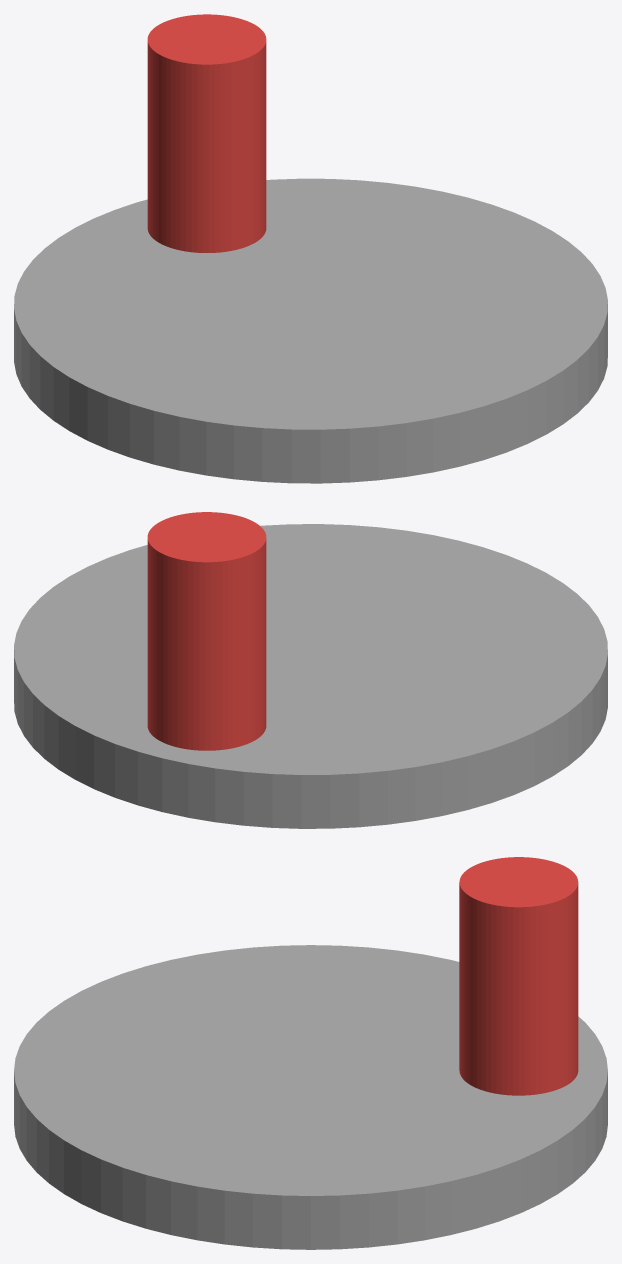
The model's file is Spindle.glb.
3 views of the same model, one above another, from view 1: azimuth 30°, elevation 25°; view 2: azimuth 150°, elevation 25°; view 3: azimuth 270°, elevation 25° (orthographic).
Parts seen in each view (by area): view 1: Cylinder, Cylinder.001; view 2: Cylinder, Cylinder.001; view 3: Cylinder, Cylinder.001.
Part boxes in pixels (x1=…): Cylinder: x1=14, y1=178, x2=607, y2=483; Cylinder.001: x1=147, y1=14, x2=266, y2=252; Cylinder: x1=14, y1=524, x2=607, y2=828; Cylinder.001: x1=147, y1=512, x2=266, y2=750; Cylinder: x1=14, y1=945, x2=607, y2=1249; Cylinder.001: x1=459, y1=857, x2=578, y2=1095.
Size of the model in its own units: 0.2 by 0.09 by 0.2.
